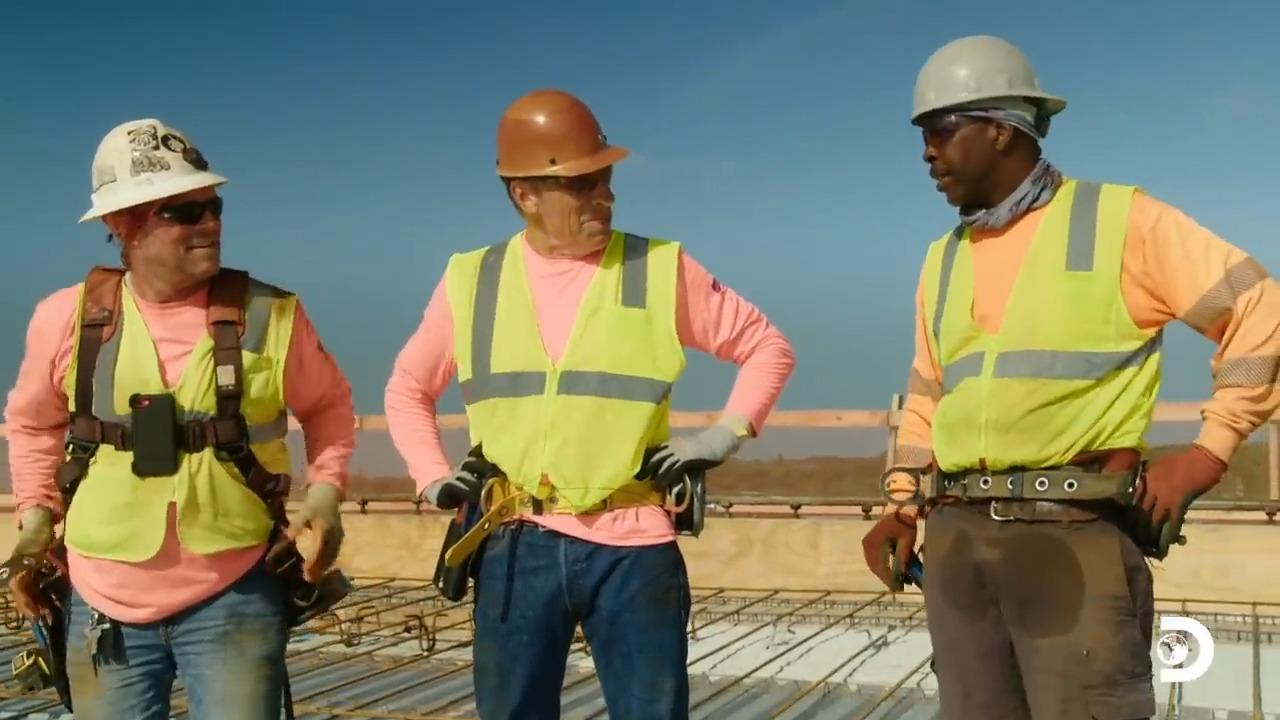Gloves: (1141, 442, 1251, 542), (282, 488, 354, 589), (649, 426, 742, 497), (0, 514, 60, 612), (851, 506, 924, 582), (420, 457, 487, 517)
Helmet: (77, 117, 229, 224), (910, 33, 1067, 130), (495, 88, 628, 179)
Person: (860, 33, 1279, 719), (383, 87, 796, 719), (0, 92, 355, 694)
Safety Vest: (63, 293, 282, 574), (466, 278, 690, 545), (919, 236, 1173, 452)
